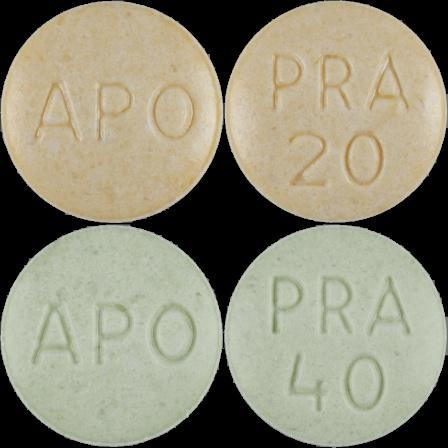53808-0536: (0, 0, 224, 224)
